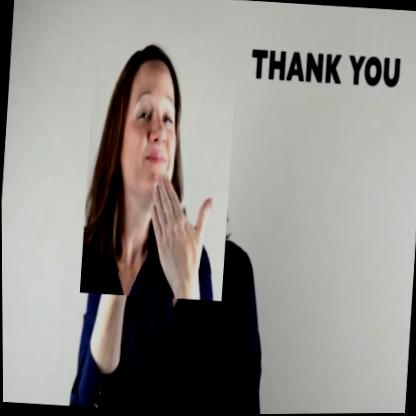ThankYou: (78, 26, 240, 303)
